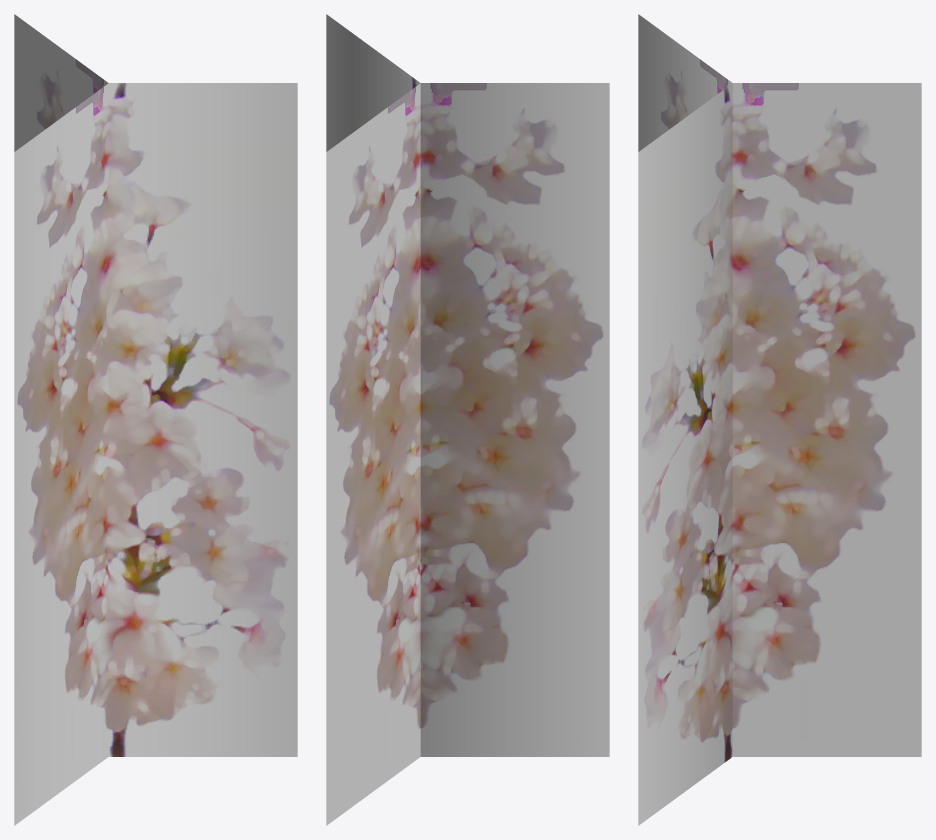
The model's file is cherryblossom.fbx.
3 renders of one model, left to right at view 1: azimuth 30°, elevation 25°; view 2: azimuth 150°, elevation 25°; view 3: azimuth 270°, elevation 25°, orthographic.
Parts seen in each view (by area): view 1: pCube663; view 2: pCube663; view 3: pCube663.
Part boxes in pixels (x1=…): pCube663: x1=14, y1=14, x2=297, y2=825; pCube663: x1=326, y1=14, x2=609, y2=825; pCube663: x1=638, y1=14, x2=921, y2=825.
Size of the model in its own units: 100 by 228 by 86.7.
Materials: 1 (1 with a texture image).
